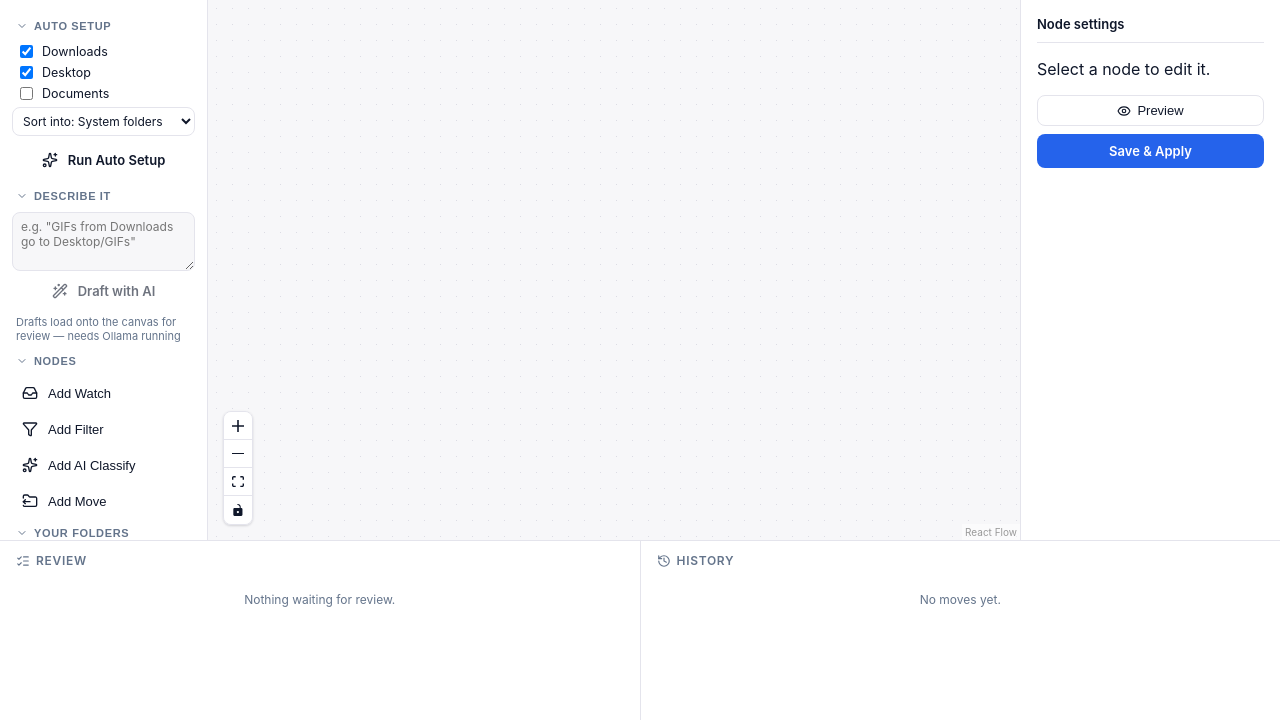
Test: Auto Setup UI › clicking Auto Setup button loads the pipeline and shows the banner
Step 1. Click the button "Run Auto Setup" → coordinates (104, 160), box x1=12 y1=144 x2=195 y2=176
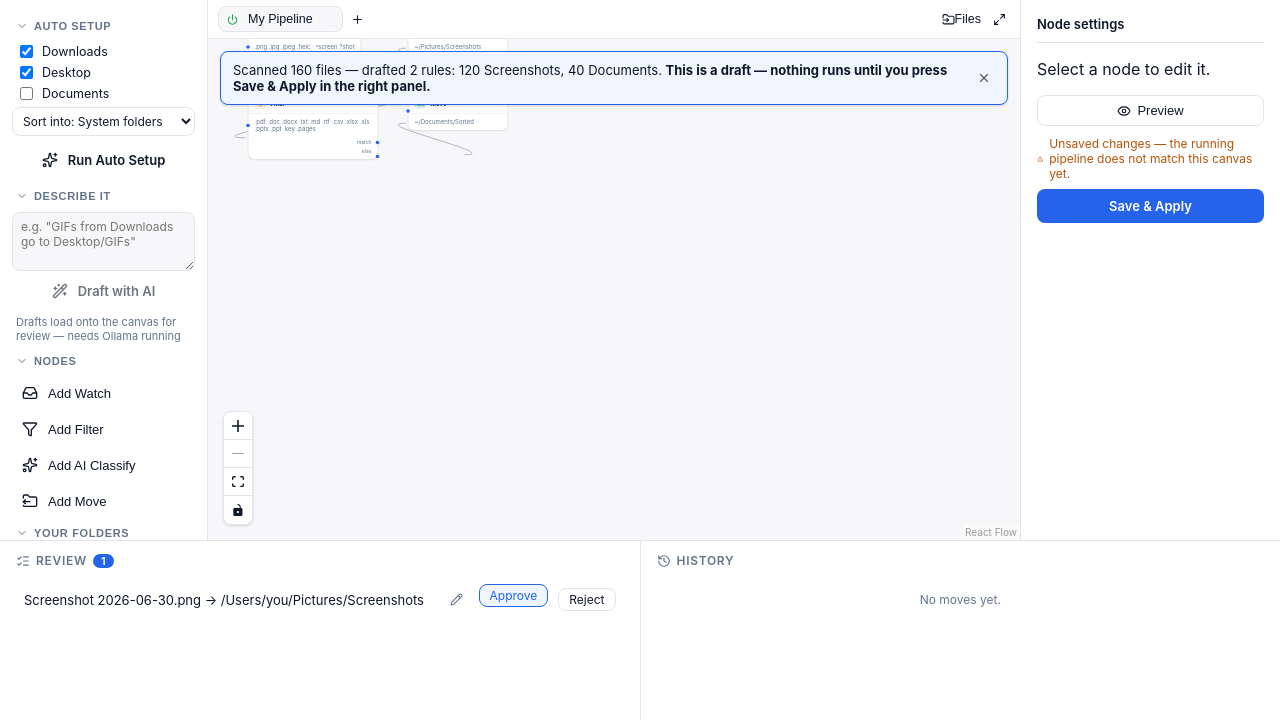
Check: the text "Scanned 160 files" is shown, box x1=233 y1=62 x2=963 y2=94
